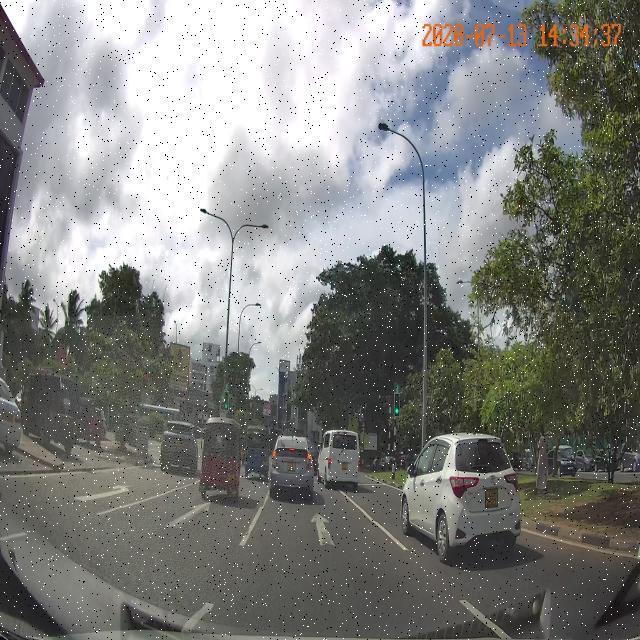forward: (235, 509, 402, 556)
